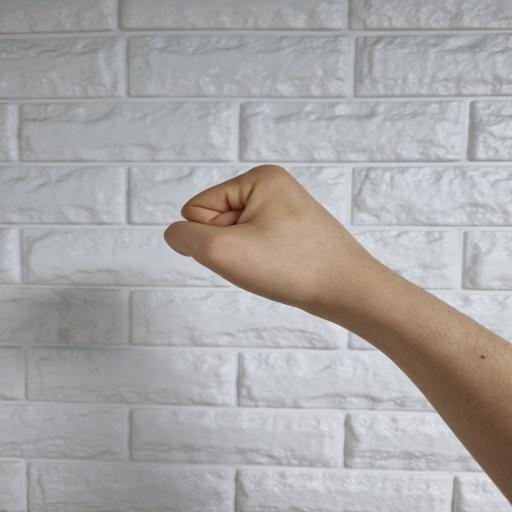Rock: (164, 166, 358, 312)
